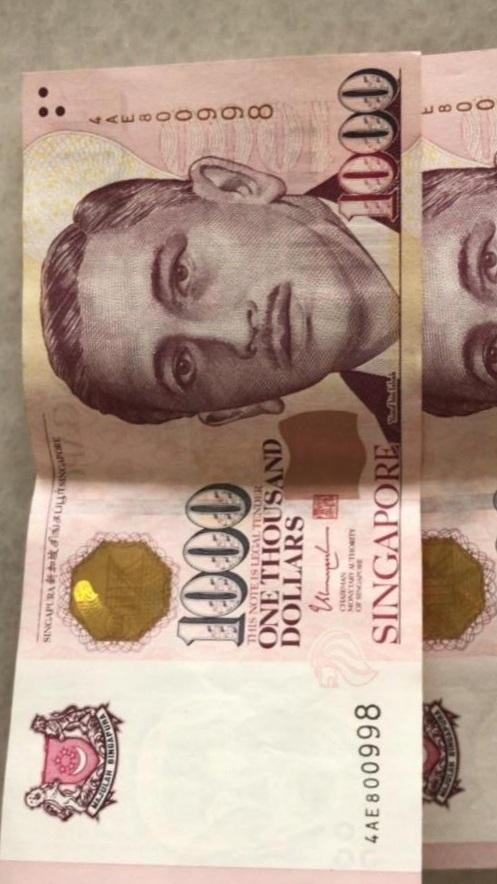1000SingaporeDollar: (28, 73, 420, 880)
